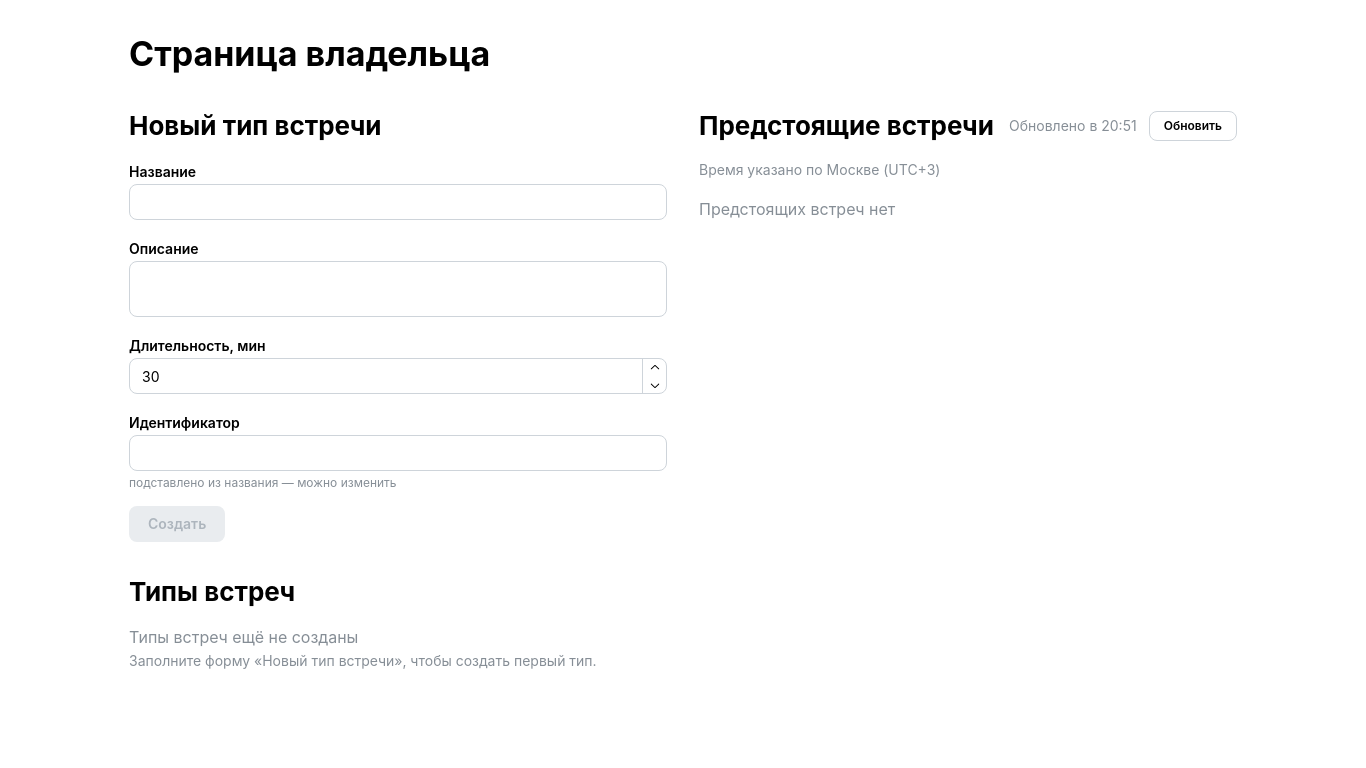
it: owner page › validates fields on blur and keeps the errors under them
Step 1. Click the field labelled "Название" → coordinates (398, 202), box [129,184,667,220]
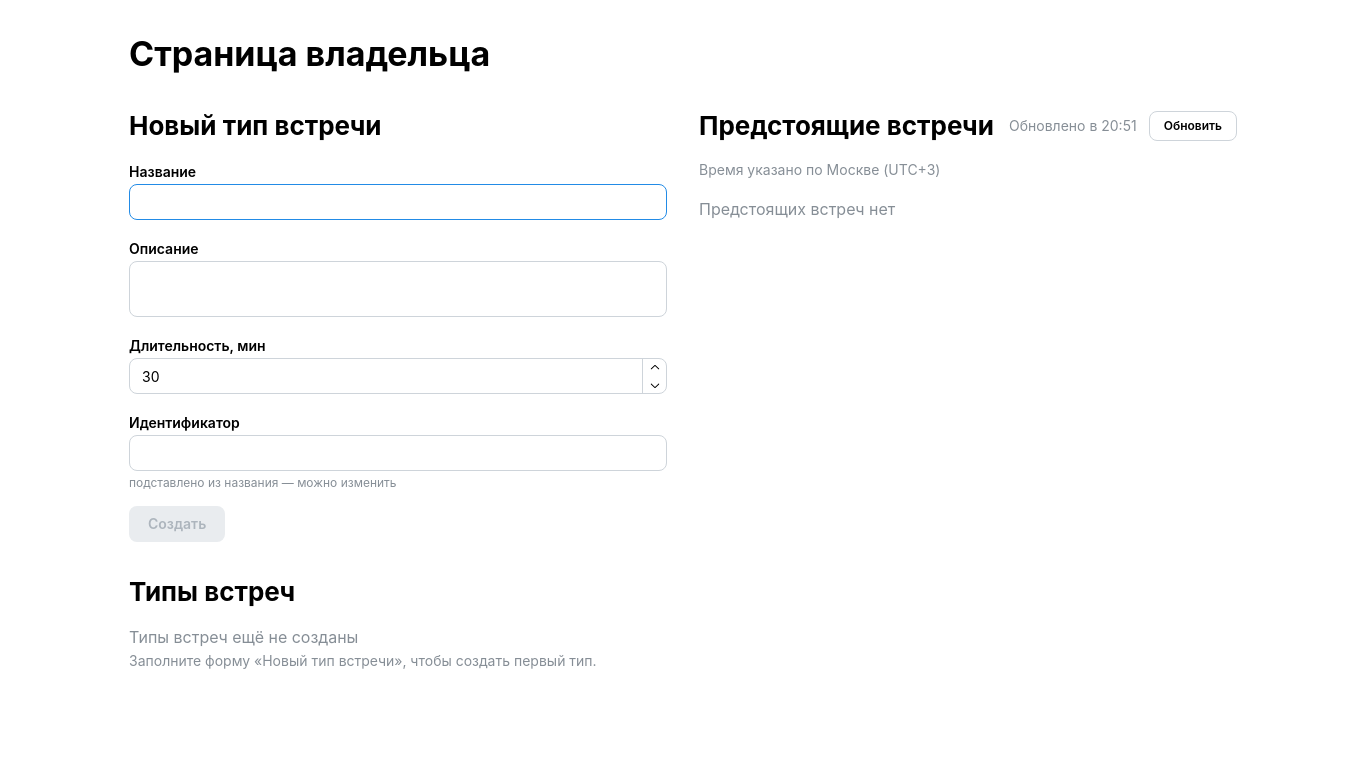
Step 2. Press Tab
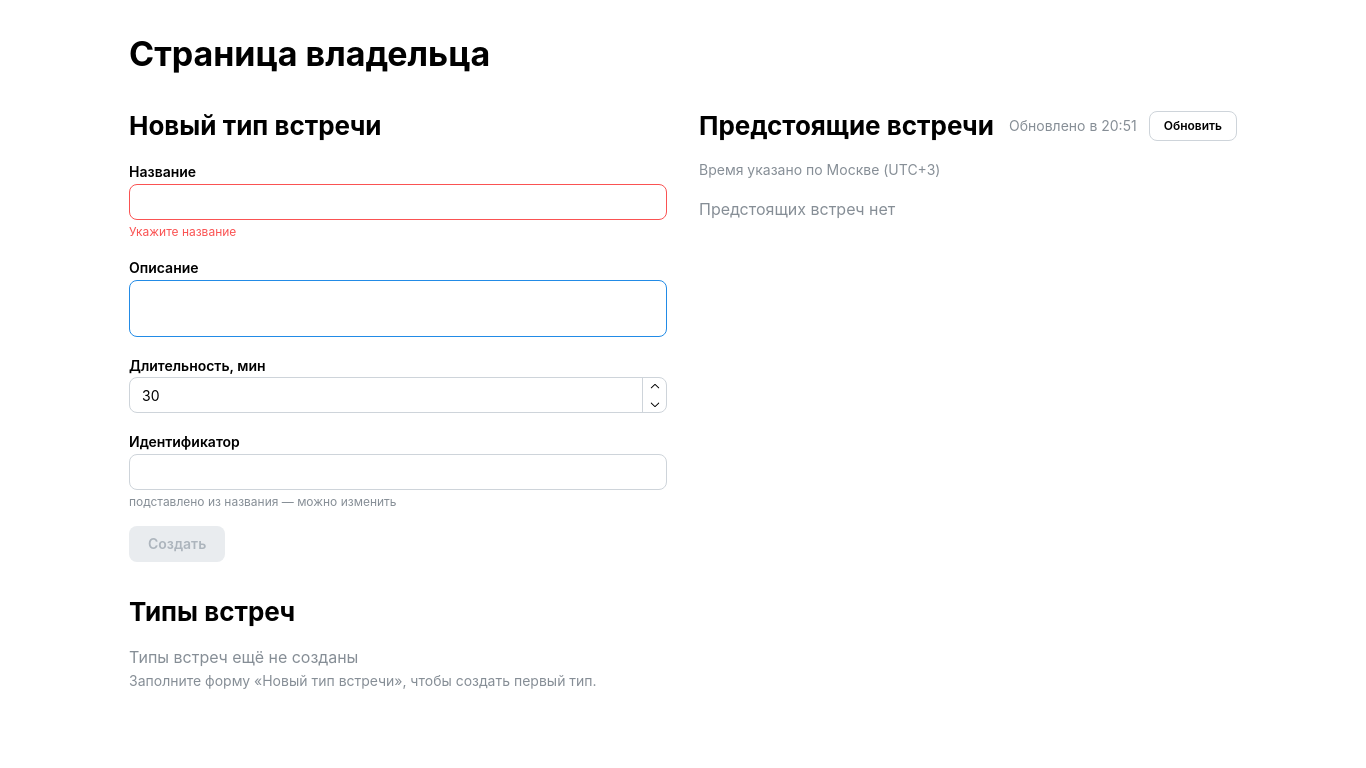
expect the text "Укажите название" is shown: met, box [129,224,236,239]
Step 3. Type "ABC" into the field labelled "Идентификатор" → coordinates (398, 472), box [129,454,667,490]
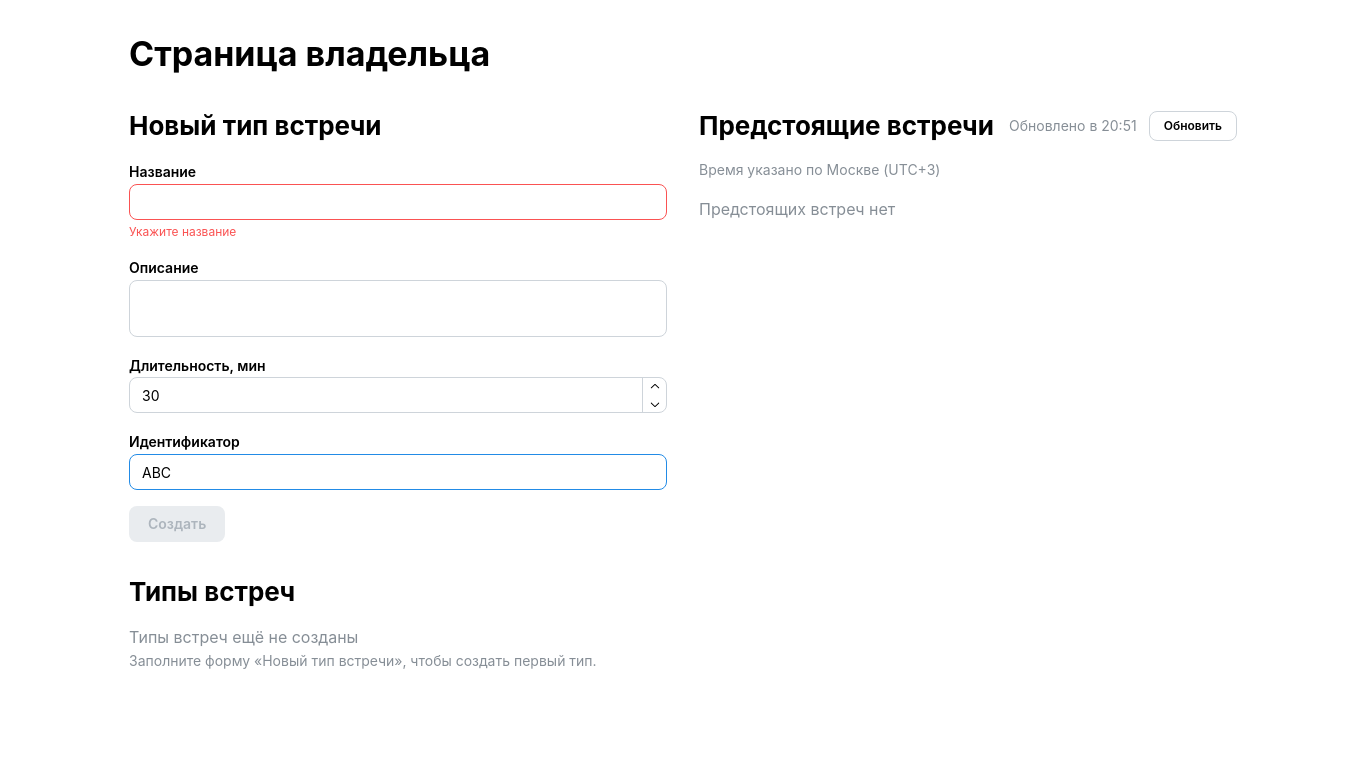
Step 4. Press Tab
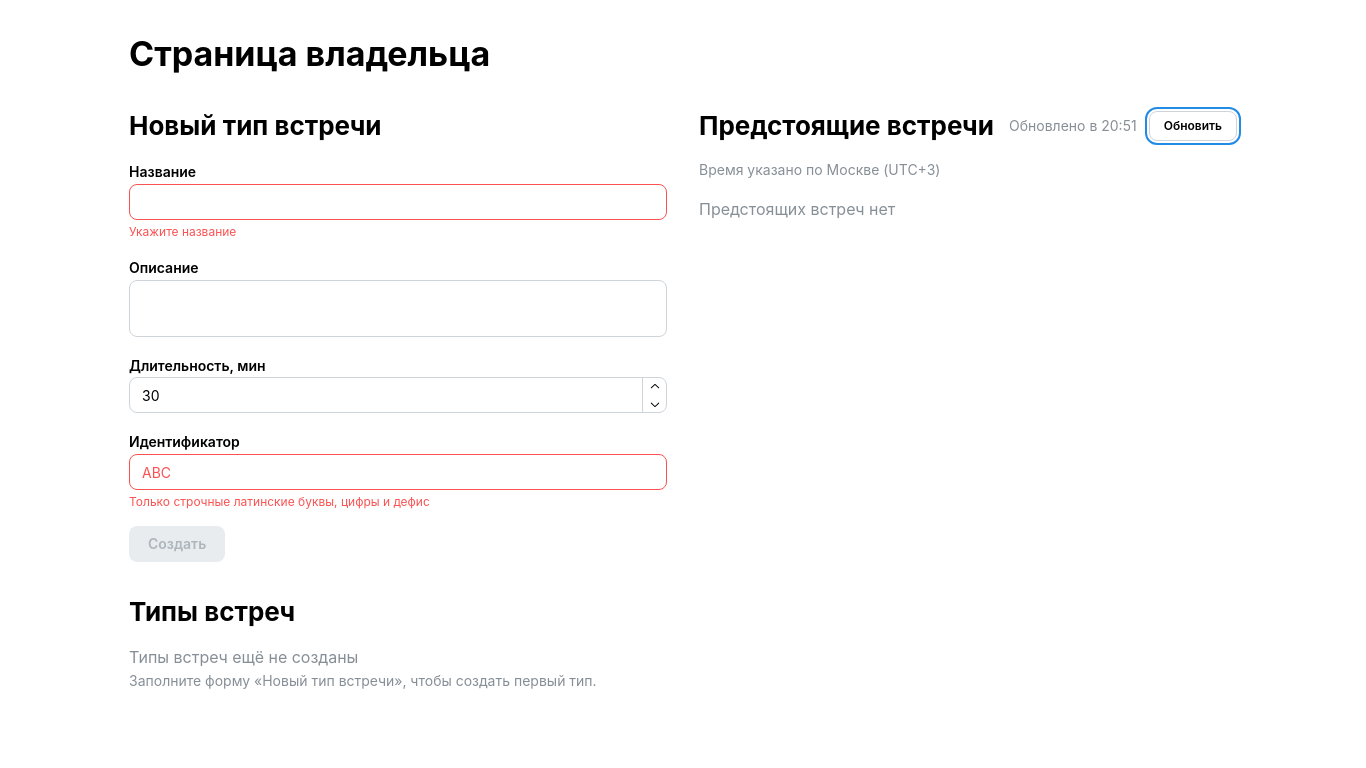
expect the text "Только строчные латинские буквы, цифры и дефис" is shown: met, box [129,494,430,509]
Step 5. Replace the text in the field labelled "Длительность, мин" with "17" → coordinates (398, 395), box [129,377,667,413]
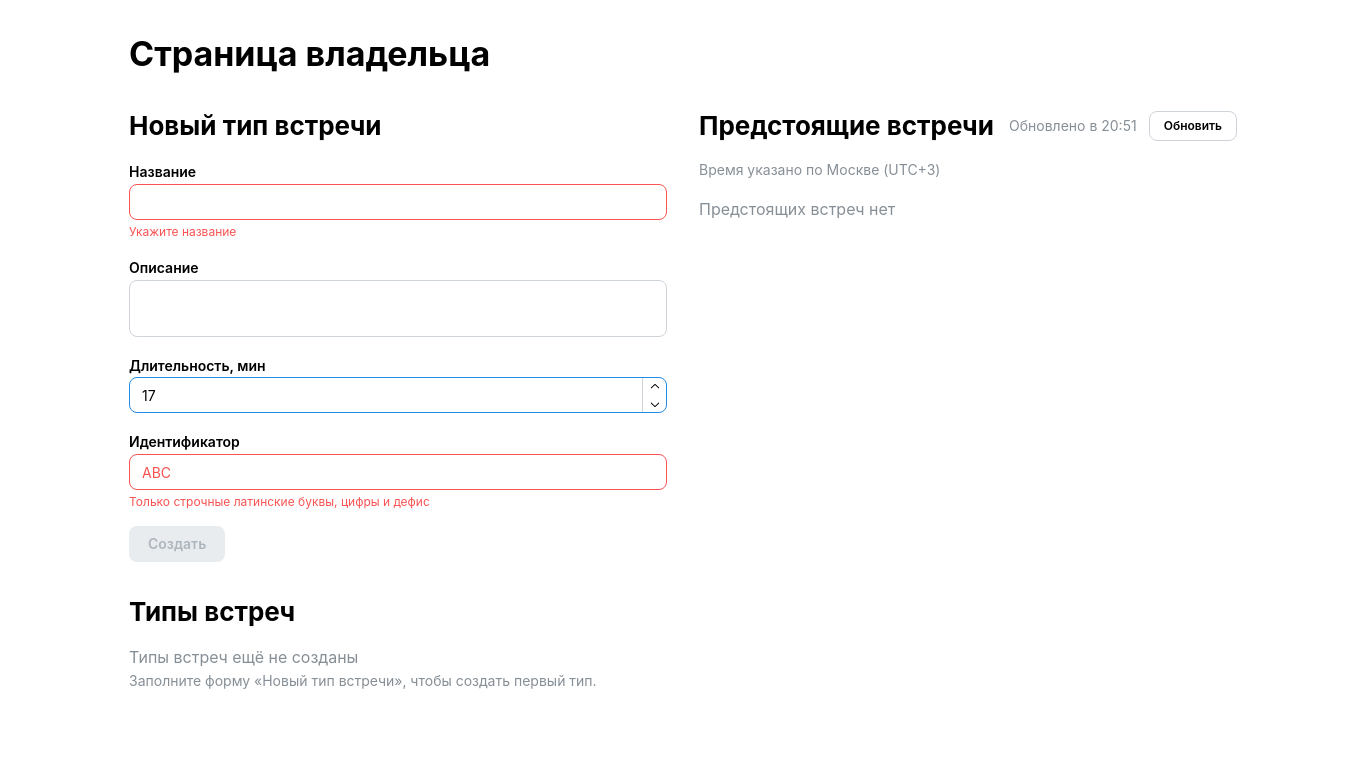
Step 6. Press Tab
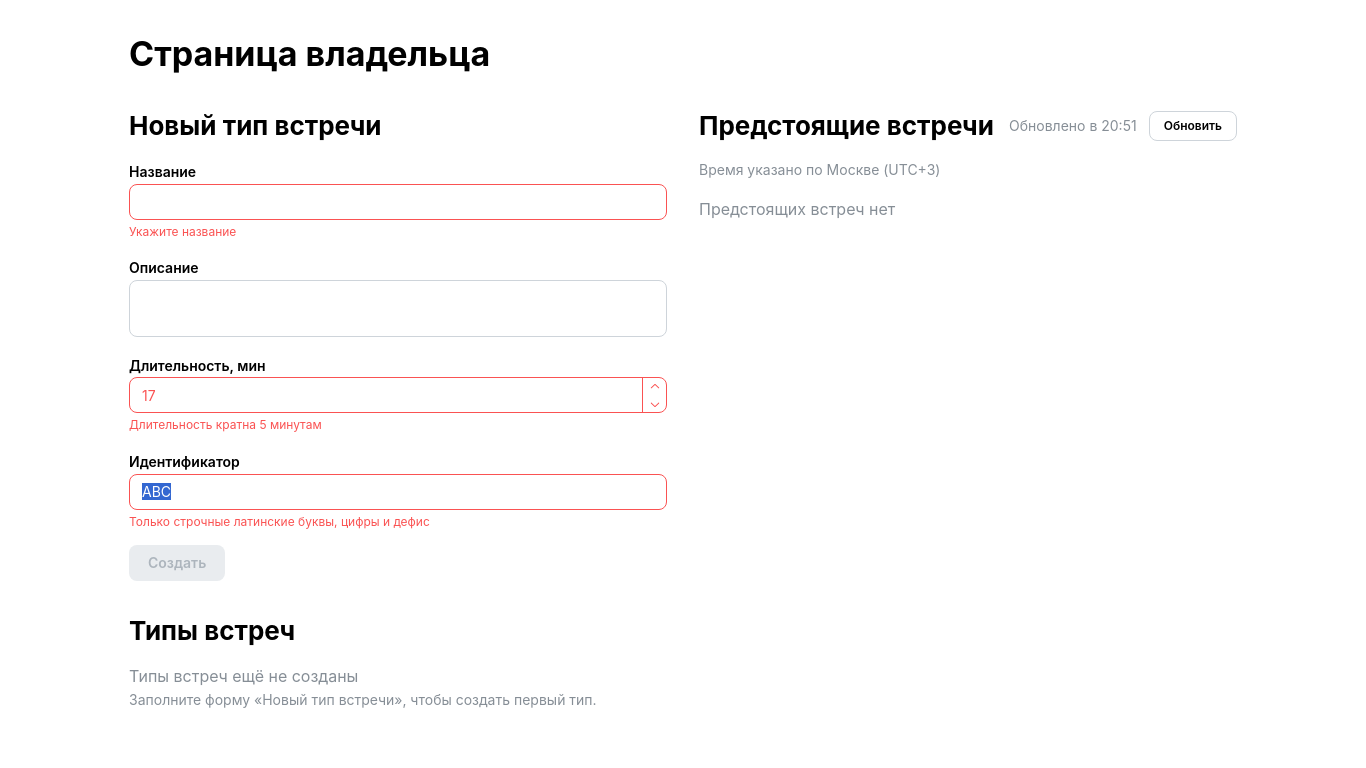
expect the button "Создать" is disabled: met, box [129,545,225,581]
expect the text "Длительность кратна 5 минутам" is shown: met, box [129,417,322,432]
